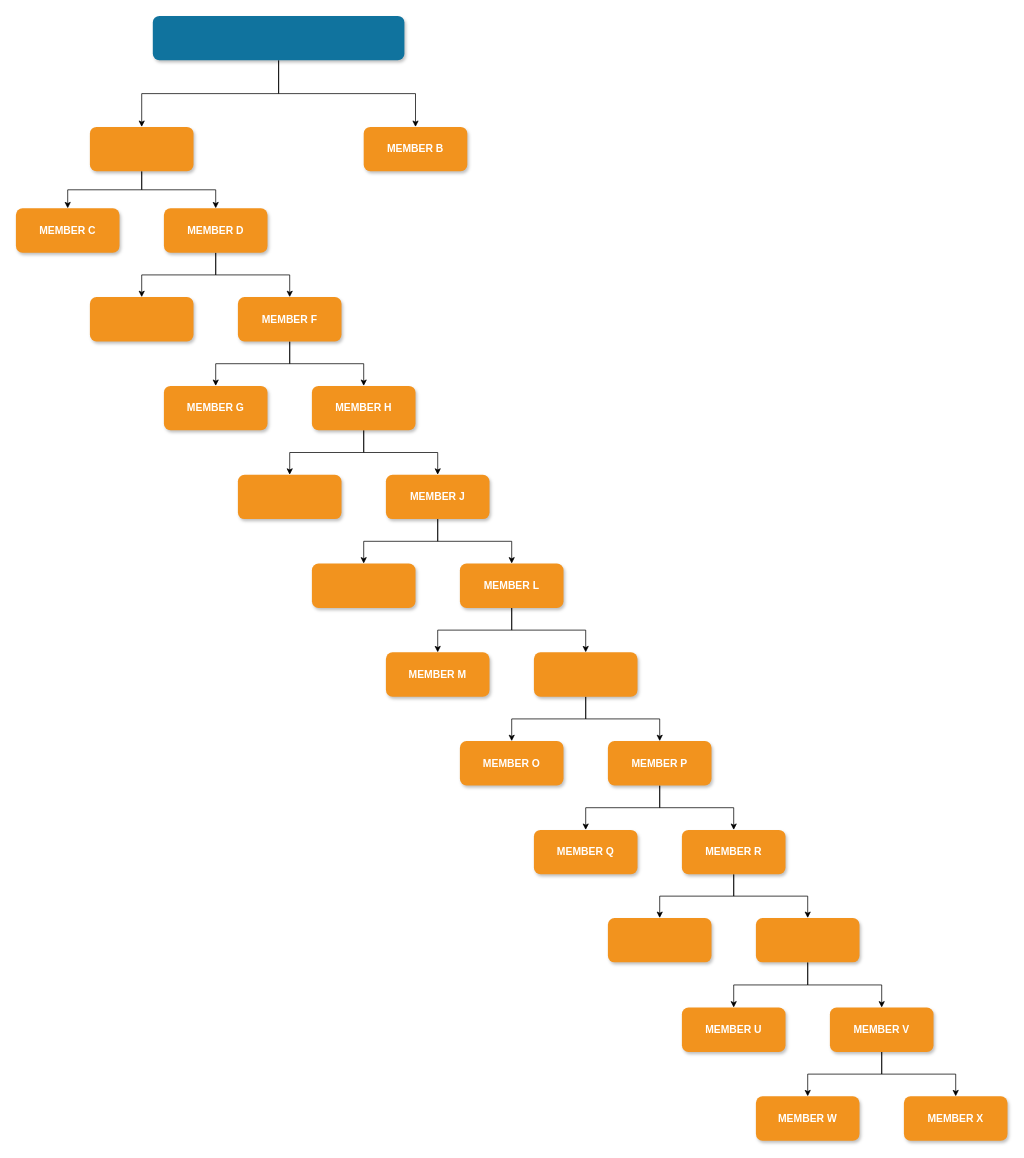
Some shapes in this 1024 by 1158 pixel diagram are drawn without their labels. Here are the shapes that lost their labels. From the top down, the centre of each, then its label:
At [278,39]: "COMPANY 1".
At [142,150]: "MEMBER A".
At [142,320]: "MEMBER E".
At [290,497]: "MEMBER I".
At [364,586]: "MEMBER K".
At [586,675]: "MEMBER N".
At [660,941]: "MEMBER S".
At [808,941]: "MEMBER T".
